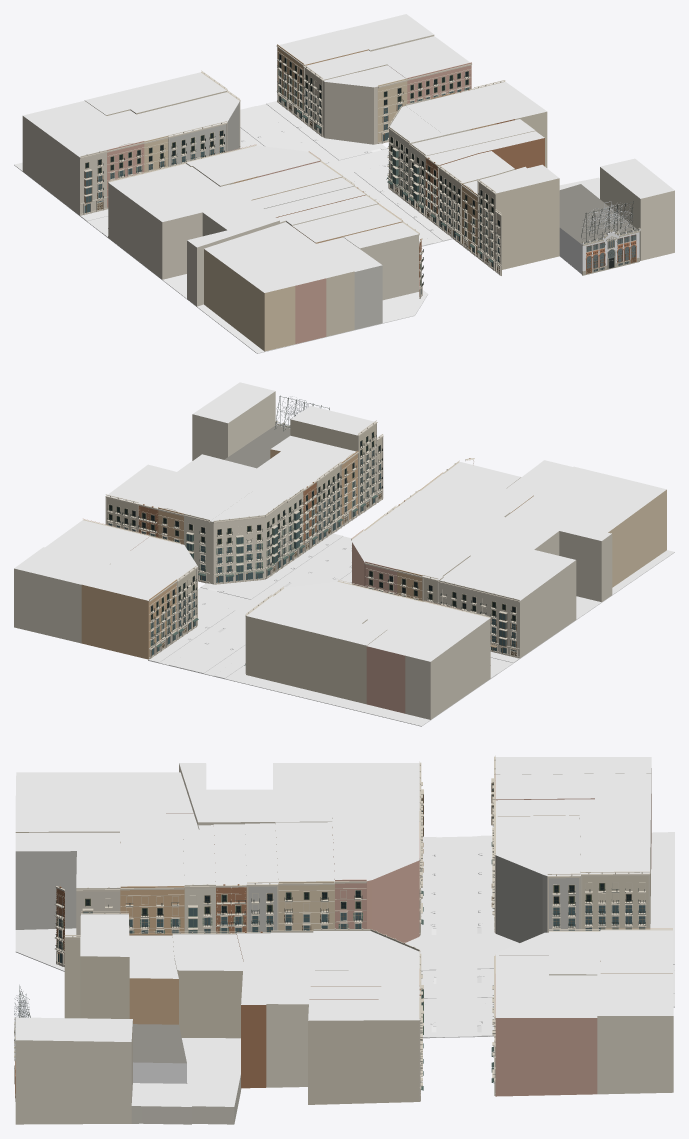
The picture shows the model from 3 angles, top to bottom: view 1: azimuth 30°, elevation 25°; view 2: azimuth 150°, elevation 25°; view 3: azimuth 270°, elevation 25°; orthographic projection. The views are drawn at different scales.
Parts seen in each view (by area): view 1: BCNgen_L-MA4-012_envolvente, BCNgen_L-MA4-012_cubierta, BCN_C02_viario_BCN-PG-03, BCNgen_L-MA4-003_envolvente, BCNgen_L-MB4-006_envolvente, BCNgen_L-MB4-003_envolvente, BCNgen_L-MA5-003_envolvente, BCNgen_L-MB5-002_envolvente, BCNgen_L-MA5-005_cubierta, H06_Cubierta_simple, BCNgen_L-MA5-001_cubierta, BCNgen_L-MA4-004_envolvente (+56 smaller); view 2: BCN_C02_viario_BCN-PG-03, BCNgen_L-MA5-005_envolvente, BCNgen_L-MA4-012_cubierta, BCNgen_L-MA4-012_envolvente, BCNgen_L-MA5-003_envolvente, BCNgen_L-MB5-005_envolvente, BCNgen_L-MB5-006_envolvente, MB4nuevo_L-MB4-017_-151.26_175.71, BCNgen_L-MA4-003_envolvente, BCNgen_L-MA5-005_cubierta, BCNgen_L-MA4-012_fachada_01, BCNgen_L-MB4-003_envolvente (+52 smaller); view 3: BCN_C07_viario_BCN-PG-03, BCNgen_L-MA4-012_cubierta, BCNgen_L-MB4-003_envolvente, BCNgen_L-MB4-021_envolvente, BCNgen_L-MB5-003_envolvente, BCNgen_L-MB5-006_envolvente, BCNgen_L-MA5-005_cubierta, BCNgen_L-MB4-010_cubierta, BCNgen_L-MA5-001_cubierta, BCNgen_L-MA4-002_envolvente, BCNgen_L-MB5-003_cubierta, BCNgen_L-MB4-011_envolvente (+56 smaller).
Boxes of the visible parts, bbox=[...] form: BCNgen_L-MA4-012_envolvente: bbox=[108, 183, 279, 306]; BCNgen_L-MA4-012_cubierta: bbox=[109, 163, 279, 247]; BCN_C02_viario_BCN-PG-03: bbox=[240, 101, 452, 245]; BCNgen_L-MA4-003_envolvente: bbox=[204, 249, 295, 351]; BCNgen_L-MB4-006_envolvente: bbox=[496, 178, 559, 269]; BCNgen_L-MB4-003_envolvente: bbox=[600, 167, 674, 260]; BCNgen_L-MA5-003_envolvente: bbox=[22, 116, 80, 215]; BCNgen_L-MB5-002_envolvente: bbox=[323, 81, 377, 144]; BCNgen_L-MA5-005_cubierta: bbox=[85, 72, 226, 114]; H06_Cubierta_simple: bbox=[559, 184, 637, 244]; BCNgen_L-MA5-001_cubierta: bbox=[137, 92, 239, 136]; BCNgen_L-MA4-004_envolvente: bbox=[343, 234, 418, 300]; BCN_C02_viario_BCN-PG-03: bbox=[148, 533, 351, 678]; BCNgen_L-MA5-005_envolvente: bbox=[246, 616, 386, 704]; BCNgen_L-MA4-012_cubierta: bbox=[440, 516, 611, 600]; BCNgen_L-MA4-012_envolvente: bbox=[519, 531, 612, 658]; BCNgen_L-MA5-003_envolvente: bbox=[405, 618, 490, 719]; BCNgen_L-MB5-005_envolvente: bbox=[81, 584, 148, 659]; BCNgen_L-MB5-006_envolvente: bbox=[14, 563, 110, 643]; MB4nuevo_L-MB4-017_-151.26_175.71: bbox=[213, 515, 265, 584]; BCNgen_L-MA4-003_envolvente: bbox=[608, 489, 666, 587]; BCNgen_L-MA5-005_cubierta: bbox=[247, 596, 386, 645]; BCNgen_L-MA4-012_fachada_01: bbox=[438, 580, 519, 658]; BCNgen_L-MB4-003_envolvente: bbox=[192, 391, 275, 460]; BCN_C07_viario_BCN-PG-03: bbox=[411, 835, 495, 1037]; BCNgen_L-MA4-012_cubierta: bbox=[179, 763, 419, 822]; BCNgen_L-MB4-003_envolvente: bbox=[15, 1021, 132, 1124]; BCNgen_L-MB4-021_envolvente: bbox=[308, 1020, 419, 1104]; BCNgen_L-MB5-003_envolvente: bbox=[495, 1018, 597, 1096]; BCNgen_L-MB5-006_envolvente: bbox=[597, 1016, 673, 1094]; BCNgen_L-MA5-005_cubierta: bbox=[579, 797, 650, 873]; BCNgen_L-MB4-010_cubierta: bbox=[131, 1038, 240, 1106]; BCNgen_L-MA5-001_cubierta: bbox=[495, 815, 580, 875]; BCNgen_L-MA4-002_envolvente: bbox=[15, 851, 76, 929]; BCNgen_L-MB5-003_cubierta: bbox=[495, 975, 597, 1017]; BCNgen_L-MB4-011_envolvente: bbox=[172, 937, 242, 1038].
Bounding box in the file's own units: 177 × 32.8 × 178.
38 materials, 1 textured.
